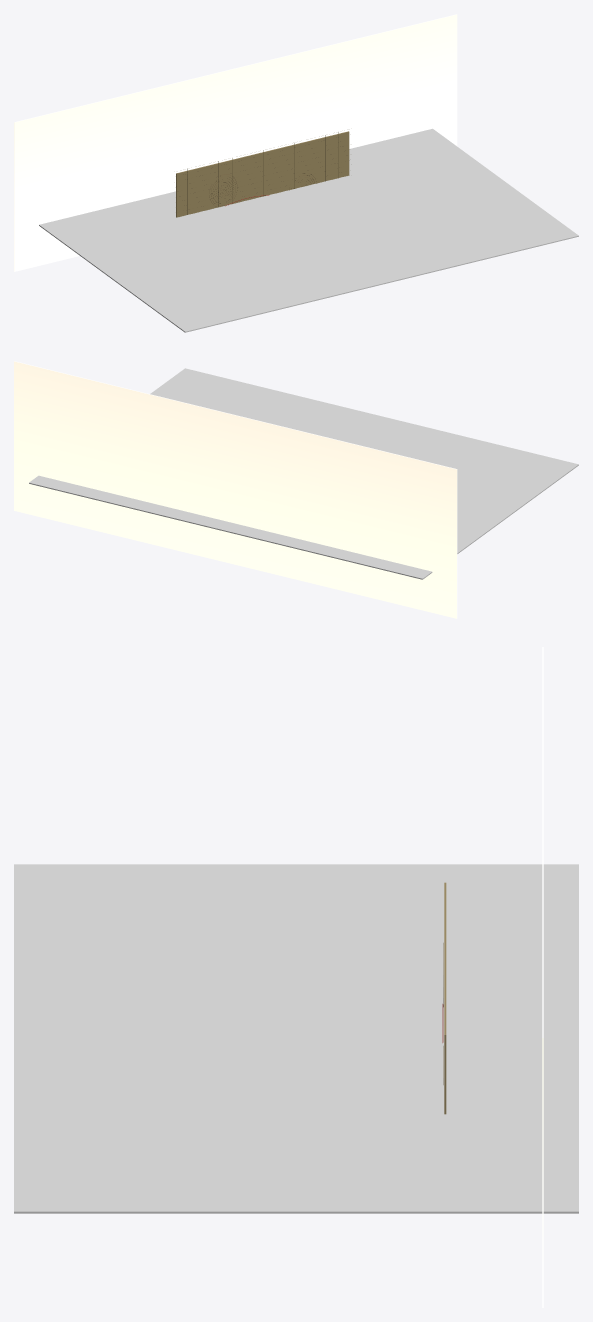
File: fieldmap.glb
3 views of the same model, one above another, from view 1: azimuth 30°, elevation 25°; view 2: azimuth 150°, elevation 25°; view 3: azimuth 270°, elevation 25° (orthographic). The views are drawn at different scales.
Visible parts, largest first — view 1: Ground contact / transparent shadow receiver.011, Sky gradient / editable material.011, World / terrain and architecture.009; view 2: Sky gradient / editable material.011, Ground contact / transparent shadow receiver.011; view 3: Ground contact / transparent shadow receiver.011, Sky gradient / editable material.011.
Part boxes in pixels (box(x1,y1,x2,y2)): Ground contact / transparent shadow receiver.011: box(39, 128, 578, 332); Sky gradient / editable material.011: box(14, 14, 457, 271); World / terrain and architecture.009: box(176, 131, 349, 217); Sky gradient / editable material.011: box(14, 361, 457, 618); Ground contact / transparent shadow receiver.011: box(29, 368, 578, 579); Ground contact / transparent shadow receiver.011: box(14, 864, 578, 1213); Sky gradient / editable material.011: box(542, 647, 543, 1307).
Bounding box in the file's own units: 180 × 58 × 110.
